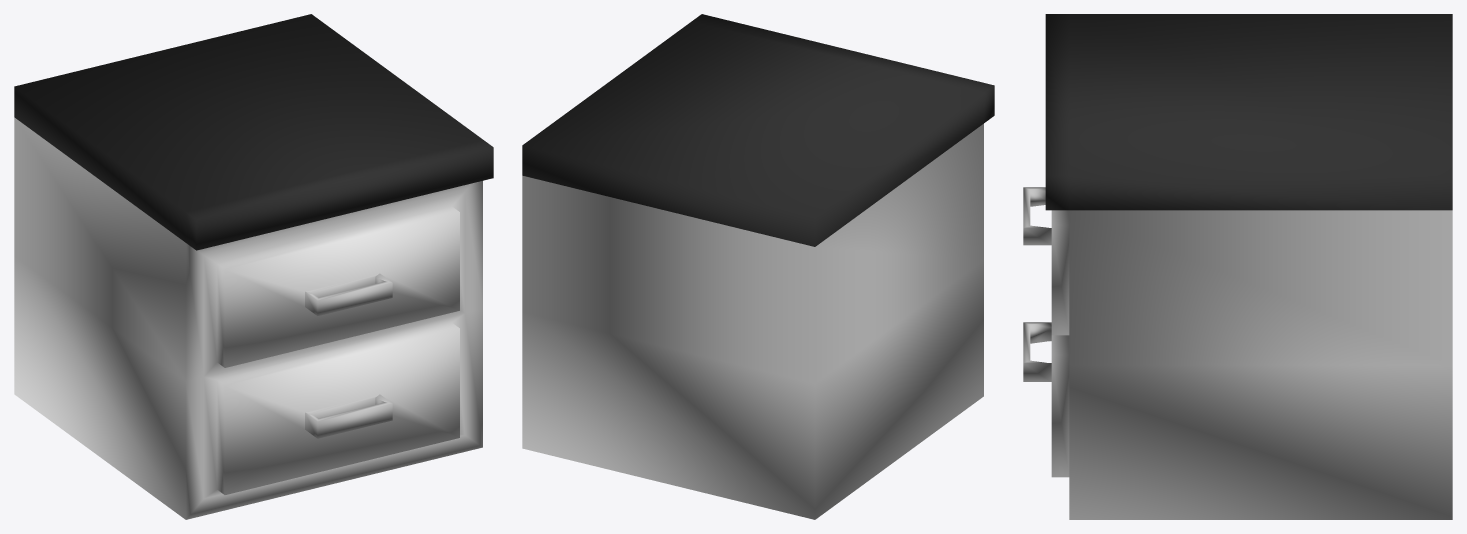
The model's file is GAMEJAMHERO - Prop(Kitchen Side).fbx.
3 views of the same model, side by side, from view 1: azimuth 30°, elevation 25°; view 2: azimuth 150°, elevation 25°; view 3: azimuth 270°, elevation 25° (orthographic). The views are drawn at different scales.
Visible parts, largest first — view 1: Cube.015; view 2: Cube.015; view 3: Cube.015.
Boxes of the visible parts, <box> form: Cube.015: <box>14,14,493,519</box>; Cube.015: <box>522,14,994,519</box>; Cube.015: <box>1023,14,1452,519</box>.
Size of the model in its own units: 146 by 144 by 163.
1 material, 1 textured.
